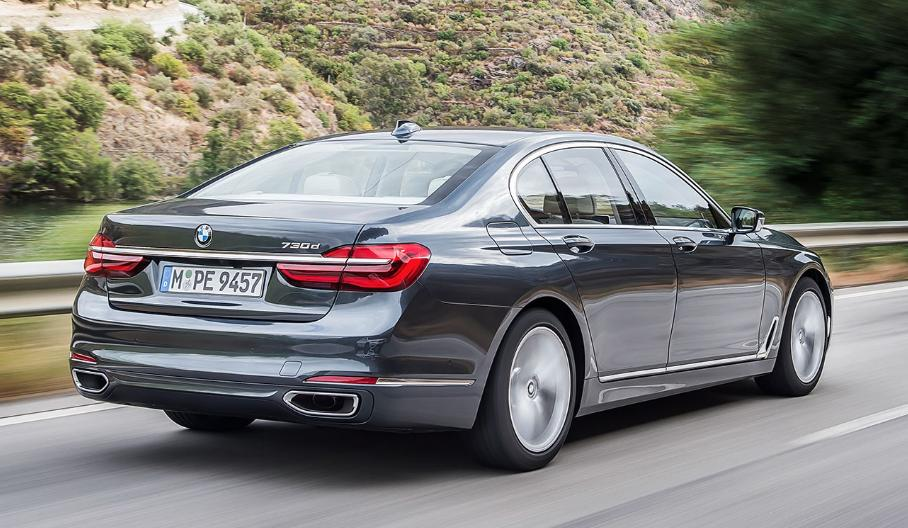car: (65, 105, 849, 467)
